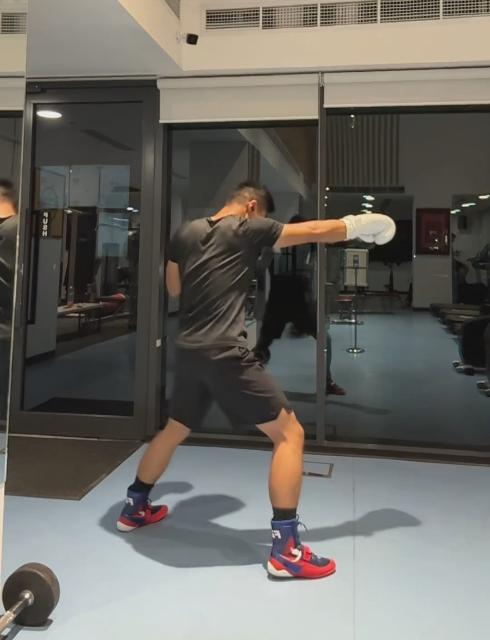punch: (115, 179, 398, 583)
